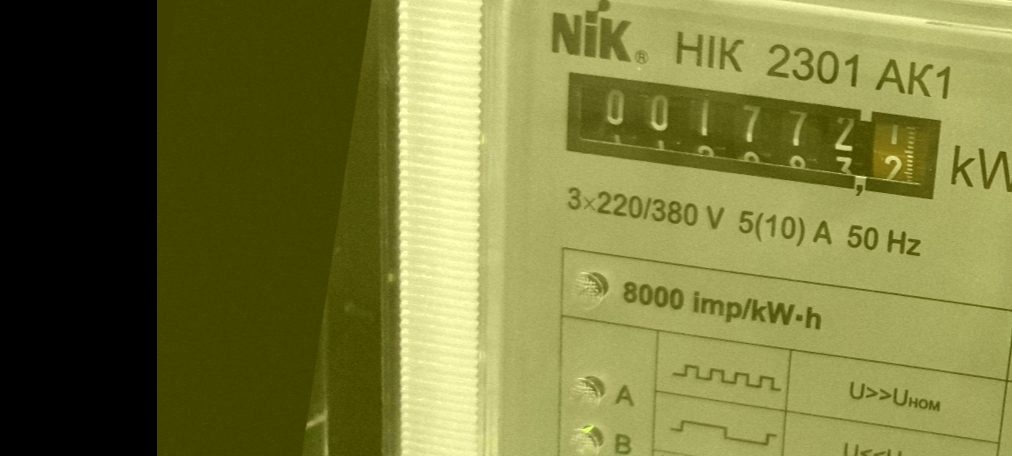0: (598, 84, 631, 128), (645, 91, 673, 133)
1: (693, 97, 715, 138), (885, 122, 902, 149)
2: (830, 115, 858, 155), (877, 151, 904, 183)
3: (831, 153, 856, 177)
7: (735, 102, 764, 146), (782, 108, 809, 149)
screen: (544, 52, 963, 220)
